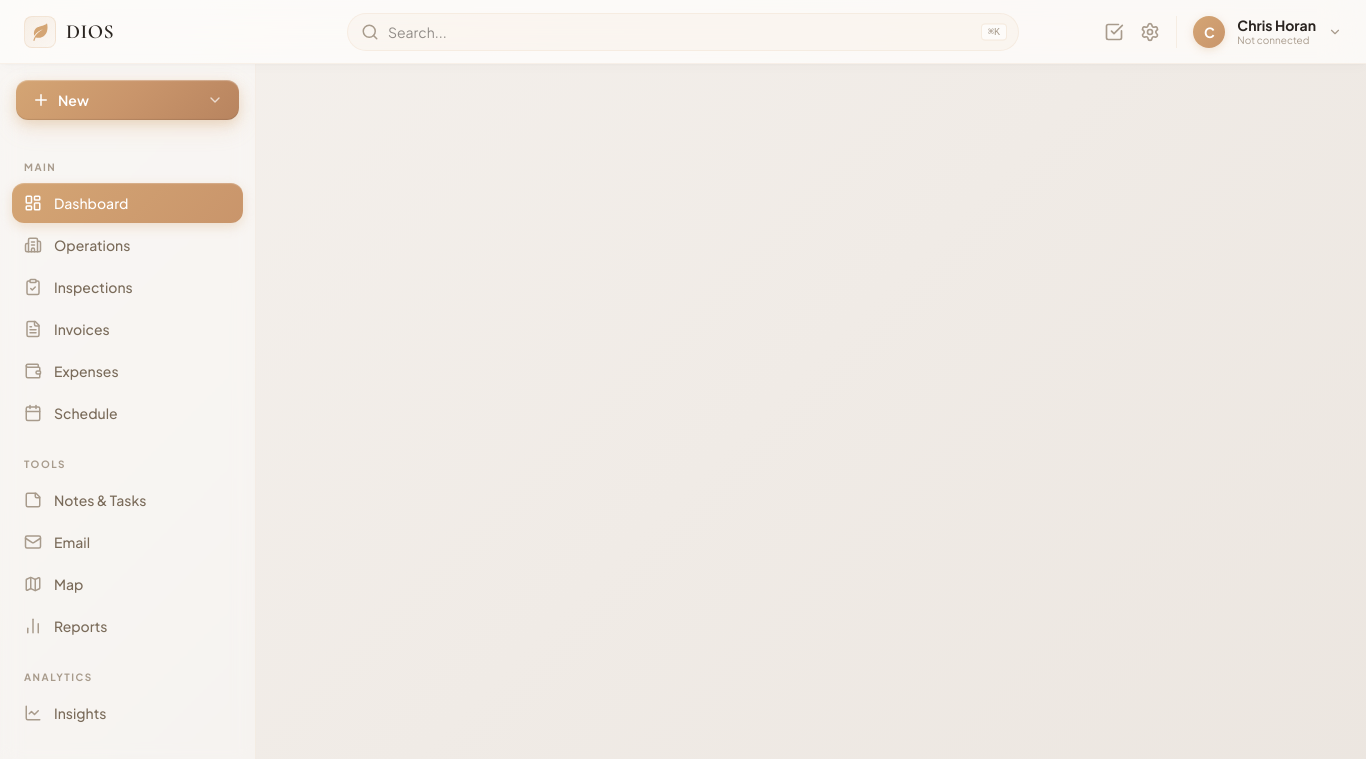
Test: Layout › shows "New" button with dropdown
expect the text "New" is shown: met, box [32, 90, 89, 110]
Click the button "New". click: point(128, 100)
box: [16, 80, 239, 120]
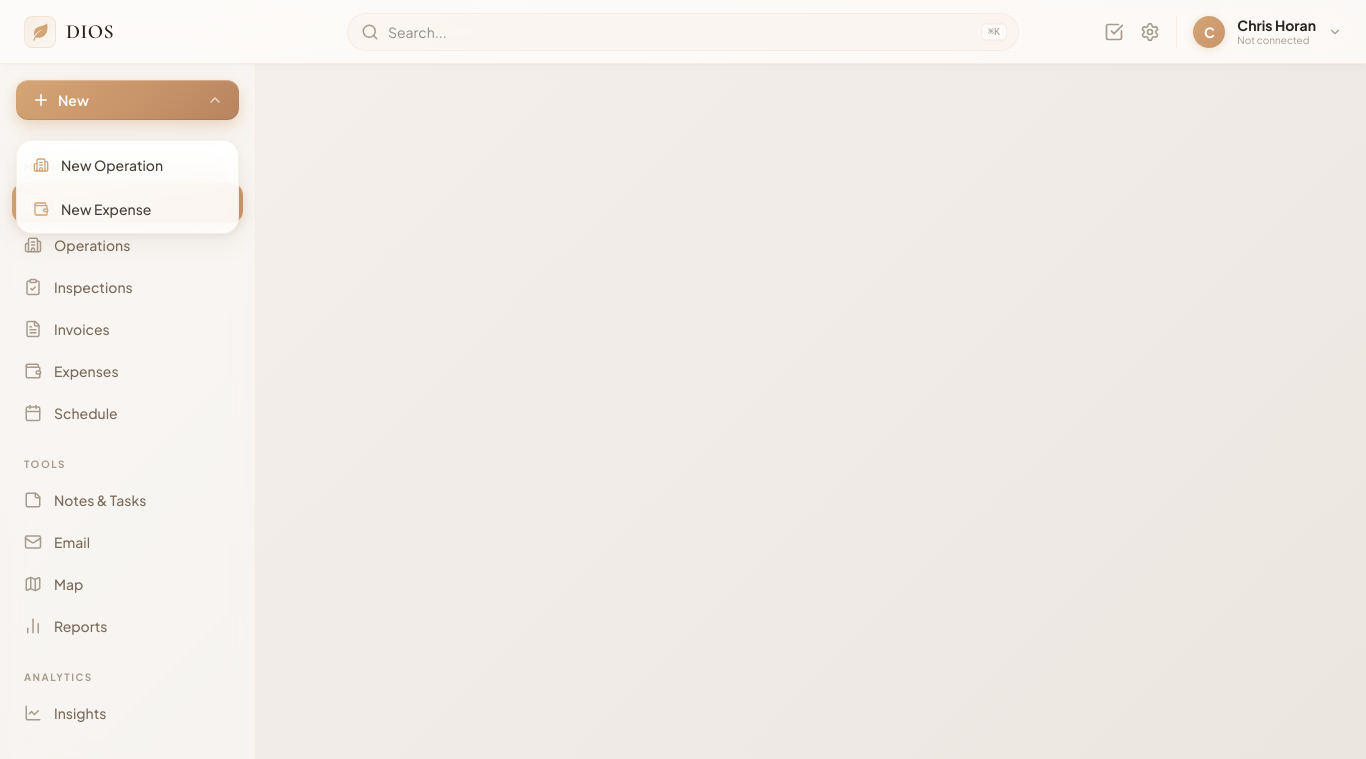
expect the button "New Operation" is shown: met, box [17, 141, 238, 187]
expect the button "New Expense" is shown: met, box [17, 187, 238, 233]
